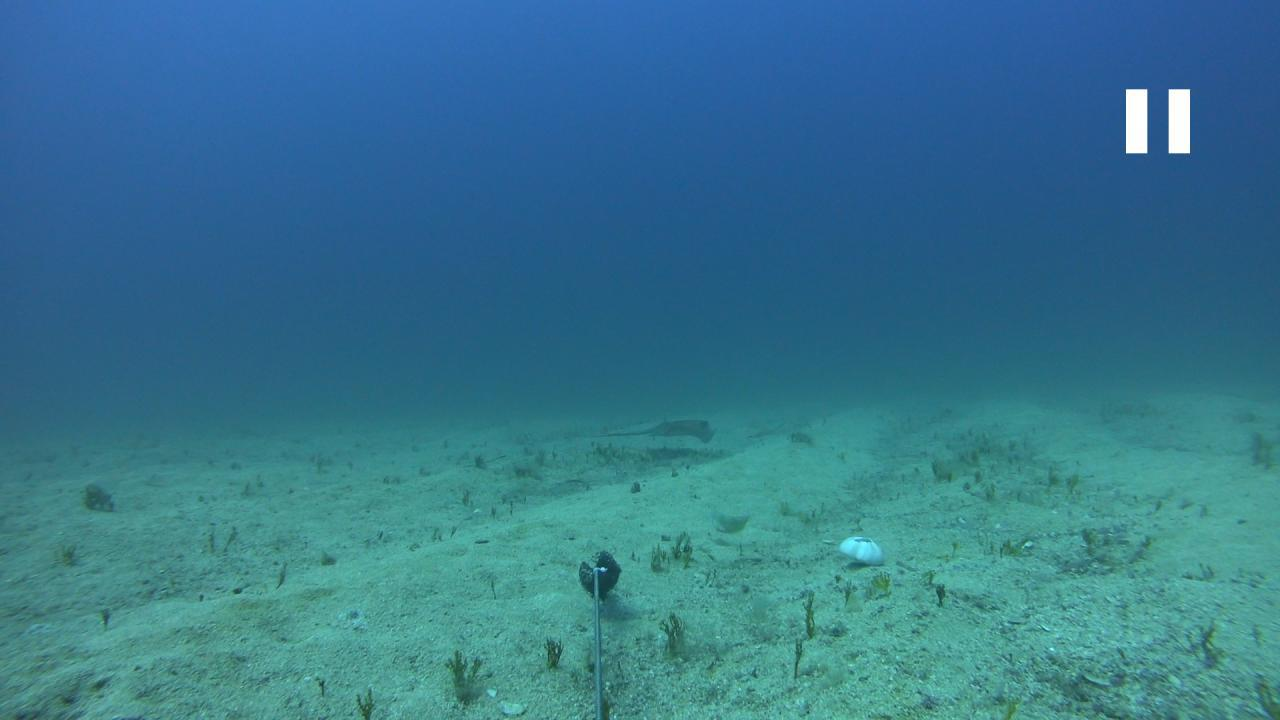dasyatis: (588, 417, 718, 446)
